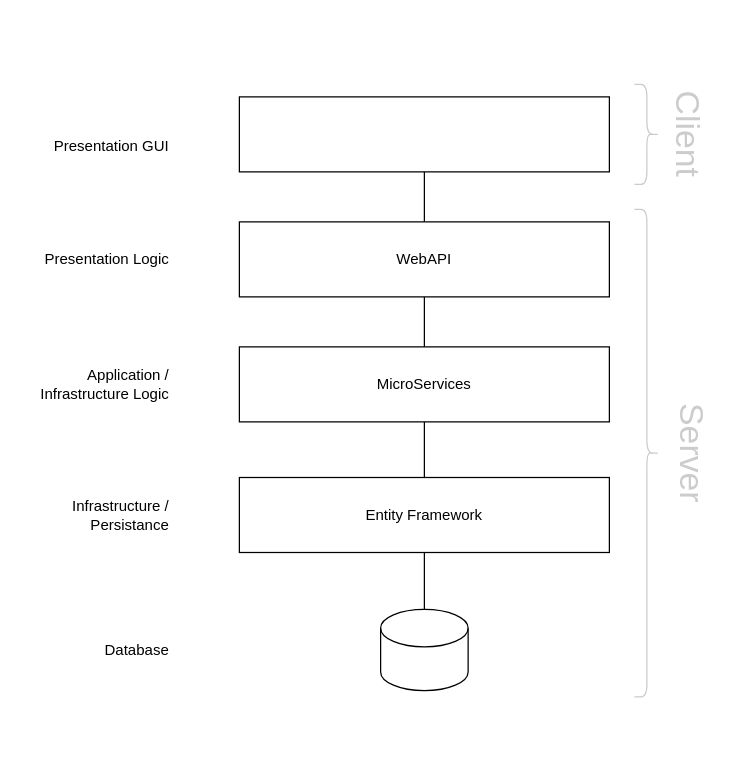
The diagram is 755 pixels wide and 768 high, and some of its shapes have lost their labels. The centre of each missing label's shape, as x and y in pixels:
"Angular Frontend" belongs at pixel 423 134.
"MySQL" belongs at pixel 423 649.
